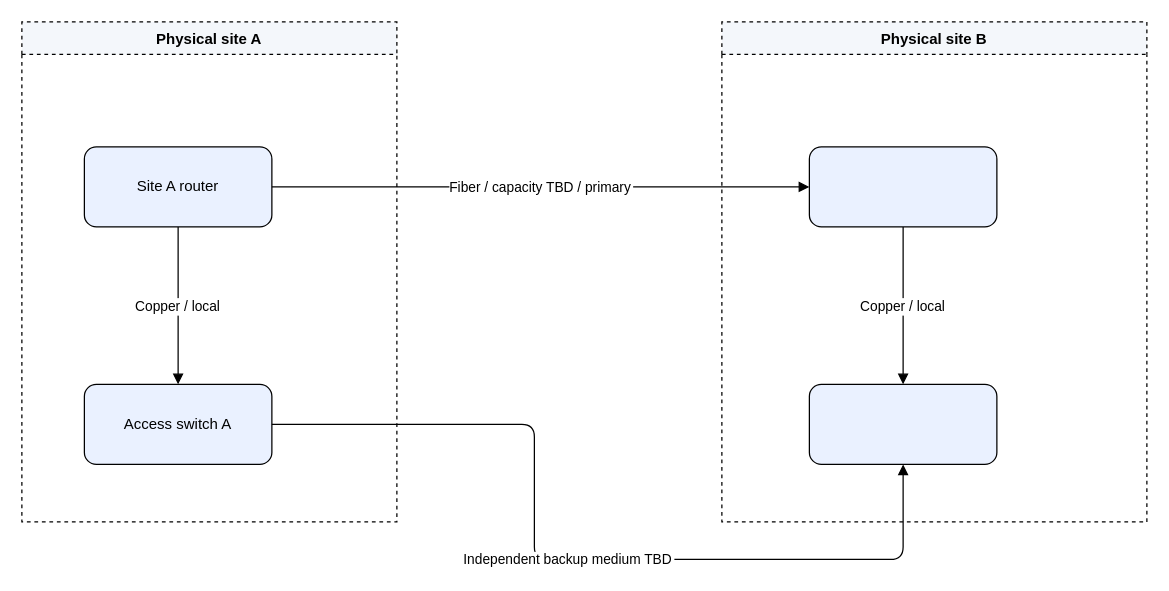
The diagram is 1169 pixels wide and 591 high, and some of its shapes have lost their labels. Each missing label, with the box of its shape:
Access switch B: (808, 383, 997, 464)
Site B router: (808, 146, 997, 227)
